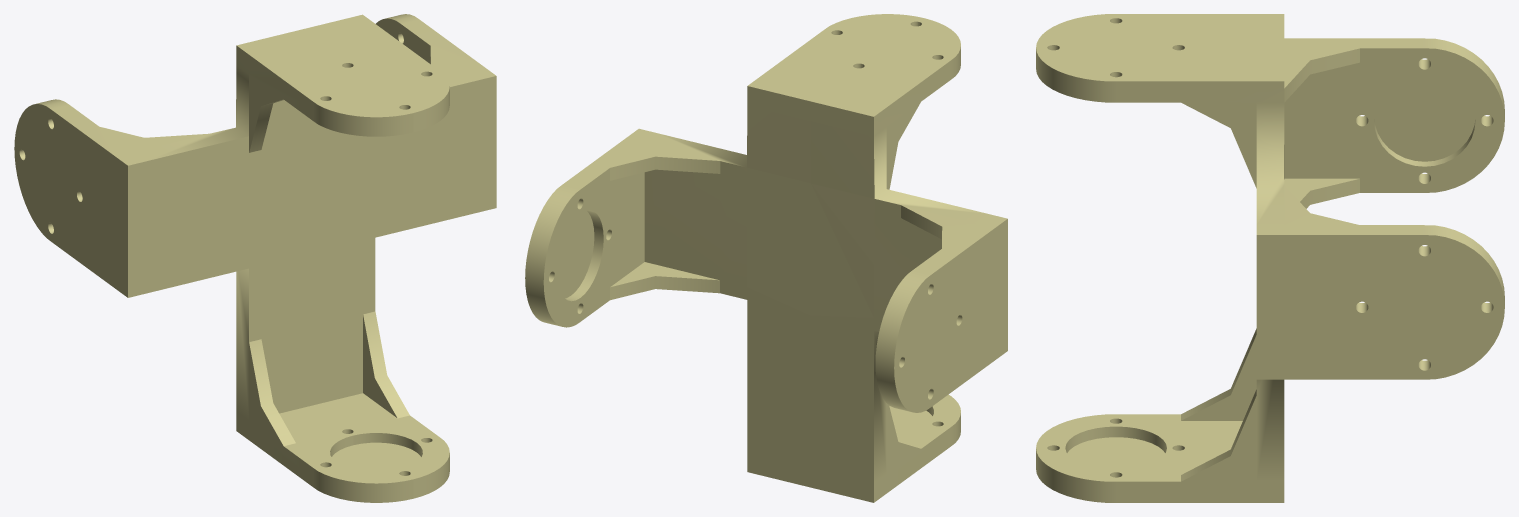
The model's file is leg-3.FBX.
3 renders of one model, left to right at view 1: azimuth 30°, elevation 25°; view 2: azimuth 150°, elevation 25°; view 3: azimuth 270°, elevation 25°, orthographic. The views are drawn at different scales.
Parts seen in each view (by area): view 1: Box053; view 2: Box053; view 3: Box053.
Boxes of the visible parts, <box> form: Box053: <box>14,14,496,502</box>; Box053: <box>525,14,1007,502</box>; Box053: <box>1036,14,1504,502</box>.
Bounding box in the file's own units: 2.34 × 2.34 × 2.36.
